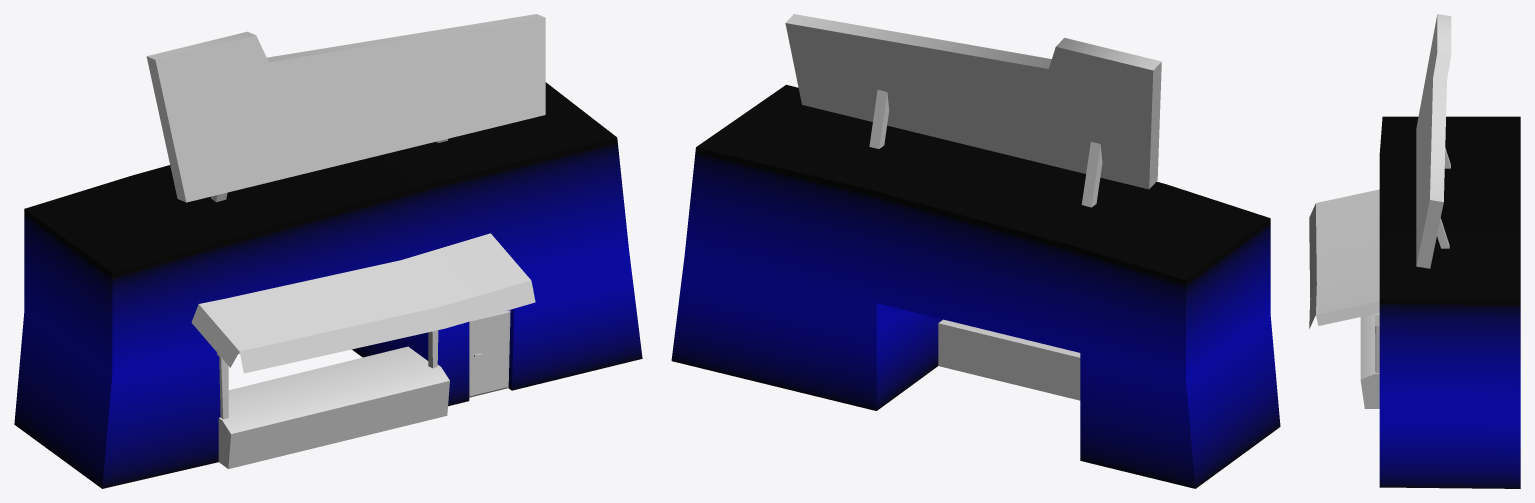
File: V_Bar.FBX
3 renders of one model, left to right at view 1: azimuth 30°, elevation 25°; view 2: azimuth 150°, elevation 25°; view 3: azimuth 270°, elevation 25°, orthographic. The views are drawn at different scales.
Parts seen in each view (by area): view 1: Box015, Box016, Plane009, Box017; view 2: Box015, Box016, Box017; view 3: Box015, Plane009, Box016, Box017.
Part boxes in pixels (x1,y1,x2,y2): Box015: [14, 82, 642, 488]; Box016: [146, 14, 545, 202]; Plane009: [191, 233, 535, 373]; Box017: [217, 310, 510, 468]; Box015: [671, 84, 1280, 488]; Box016: [785, 14, 1161, 207]; Box017: [938, 319, 1080, 400]; Box015: [1379, 116, 1520, 488]; Plane009: [1309, 189, 1379, 328]; Box016: [1416, 14, 1451, 268]; Box017: [1360, 313, 1379, 408].
Size of the model in its own units: 1328 by 894 by 570.
